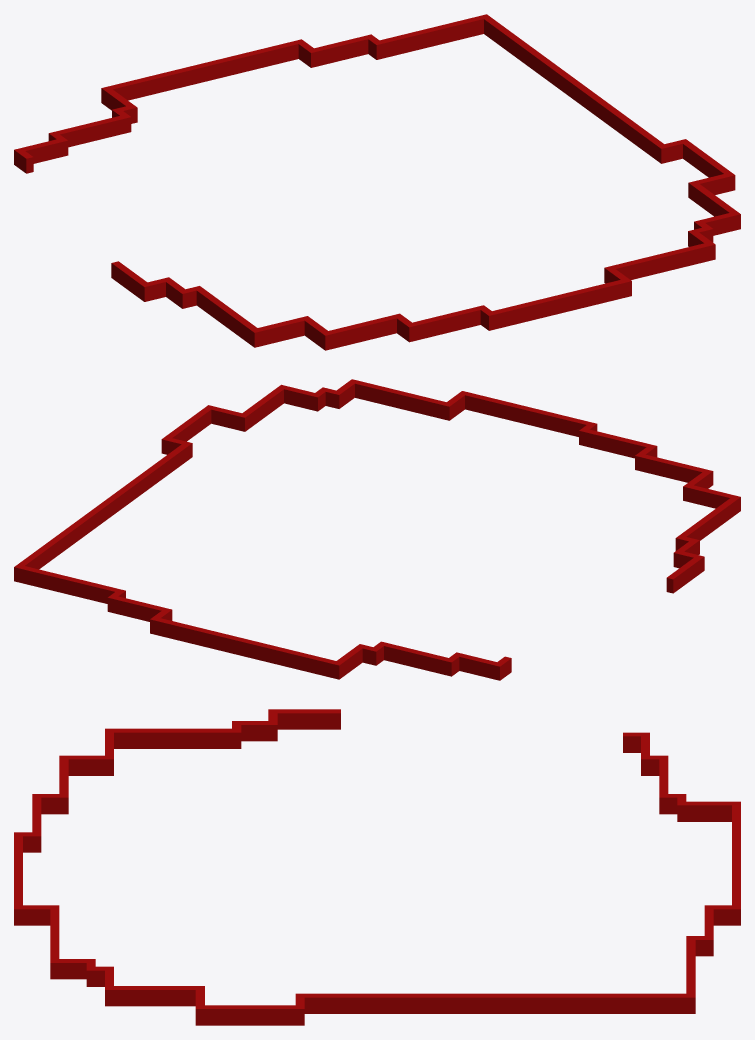
File: Island Barriere.obj
The picture shows the model from 3 angles, top to bottom: view 1: azimuth 30°, elevation 25°; view 2: azimuth 150°, elevation 25°; view 3: azimuth 270°, elevation 25°; orthographic projection. The views are drawn at different scales.
Bounding box in the file's own units: 7.8 × 0.2 × 8.
1 material, 1 textured.
